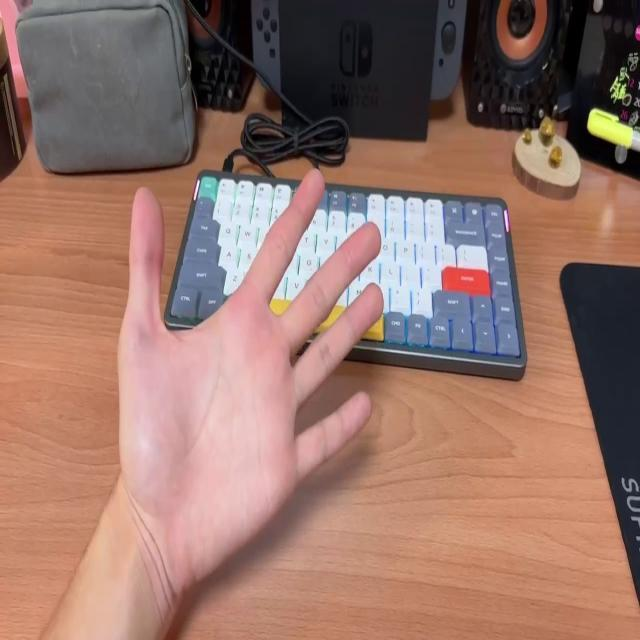keyboard-with-hands: (166, 173, 522, 364)
